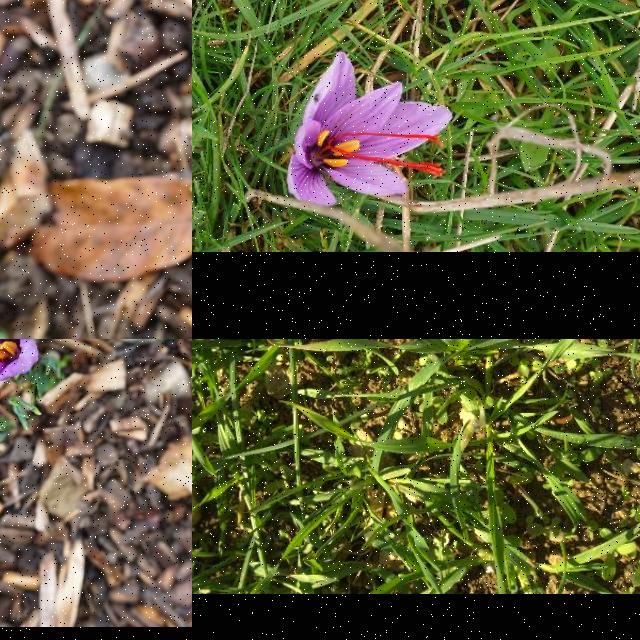flower: (286, 52, 454, 208), (0, 339, 37, 438)
